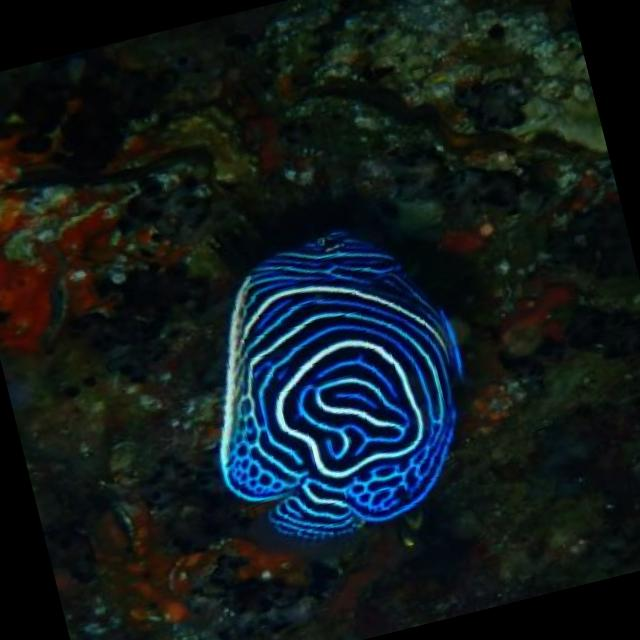AngelFish: (170, 206, 500, 562)
